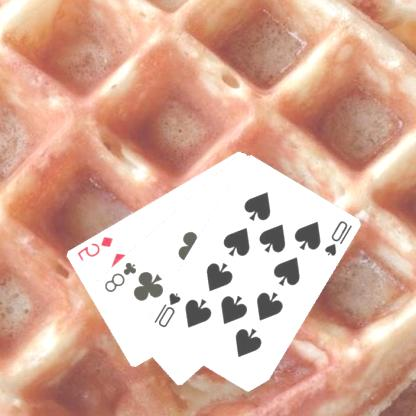10S: (152, 290, 184, 329), (323, 218, 354, 258)
5D: (76, 233, 116, 262)
8C: (103, 259, 139, 294)
